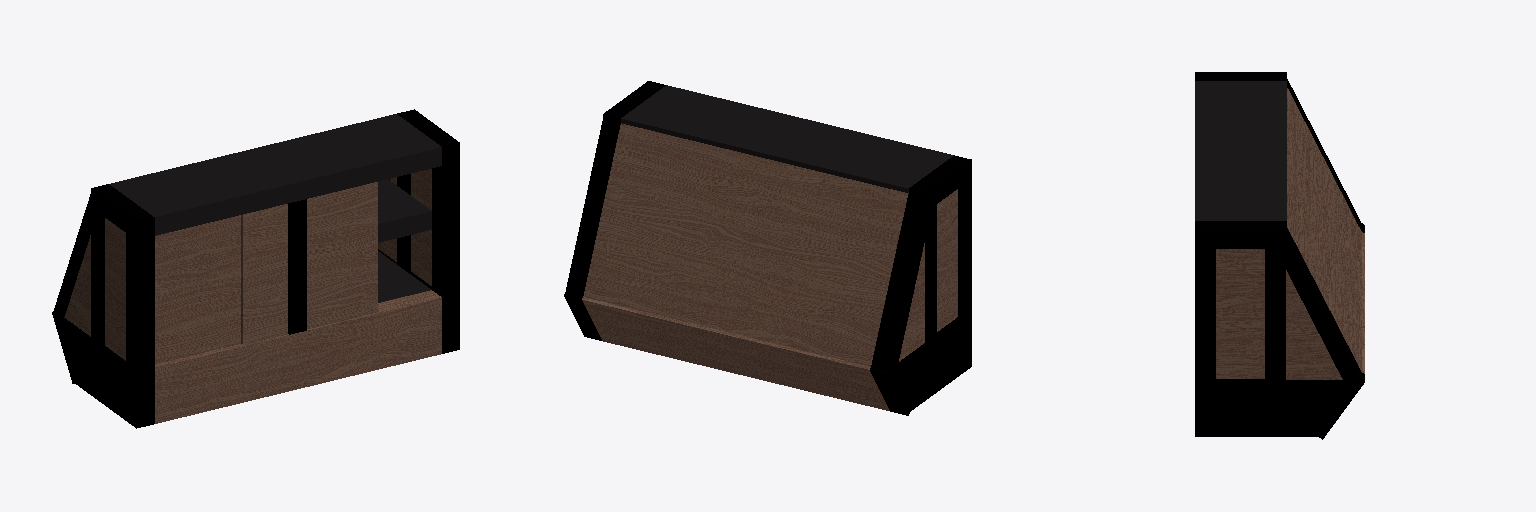
3 renders of one model, left to right at view 1: azimuth 30°, elevation 25°; view 2: azimuth 150°, elevation 25°; view 3: azimuth 270°, elevation 25°, orthographic.
Visible parts, largest first — view 1: Union1, Part4, Part11, Part1, Part2, Part12, Part5, Part9, Part13, Part14; view 2: Part3, Union1, Part4, Part10, Part12, Part14; view 3: Union1, Part4, Part3, Part9, Part7.
Boxes of the visible parts, <box> form: Union1: <box>52,109,459,428</box>; Part4: <box>110,114,441,235</box>; Part11: <box>155,290,441,423</box>; Part1: <box>241,182,377,344</box>; Part2: <box>155,215,240,364</box>; Part12: <box>105,218,125,360</box>; Part5: <box>378,179,431,242</box>; Part9: <box>411,169,431,285</box>; Part13: <box>378,252,430,302</box>; Part14: <box>64,235,90,336</box>; Part3: <box>583,123,908,366</box>; Union1: <box>564,81,971,415</box>; Part4: <box>621,85,953,192</box>; Part10: <box>582,297,889,410</box>; Part12: <box>937,189,957,331</box>; Part14: <box>899,243,924,361</box>; Union1: <box>1195,72,1364,439</box>; Part4: <box>1195,81,1286,220</box>; Part3: <box>1287,88,1361,371</box>; Part9: <box>1216,249,1264,378</box>; Part7: <box>1286,270,1342,379</box>.
Size of the model in its own units: 9 by 5.57 by 4.08.
Materials: 5 (1 with a texture image).